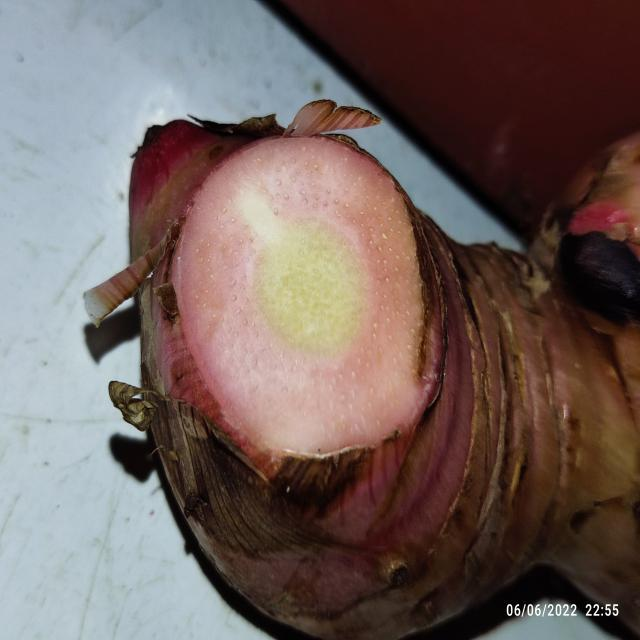ginger: (134, 120, 640, 613)
